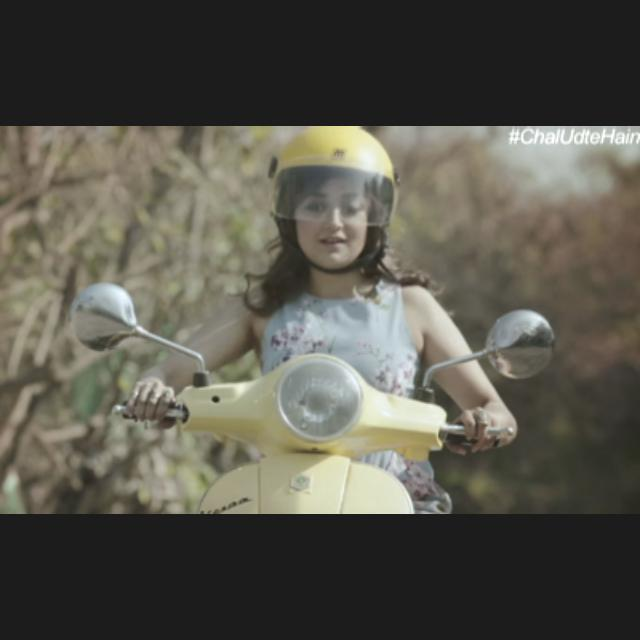With Helmet: (266, 126, 400, 272)
